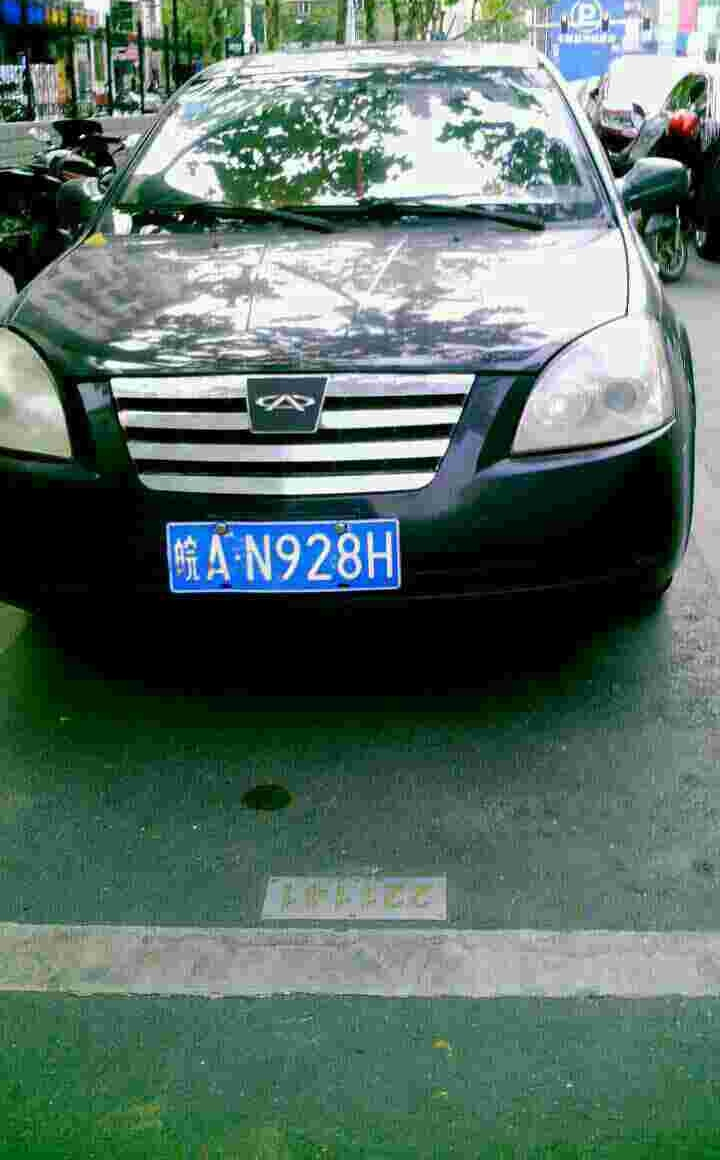license_plate: (156, 510, 415, 591)
